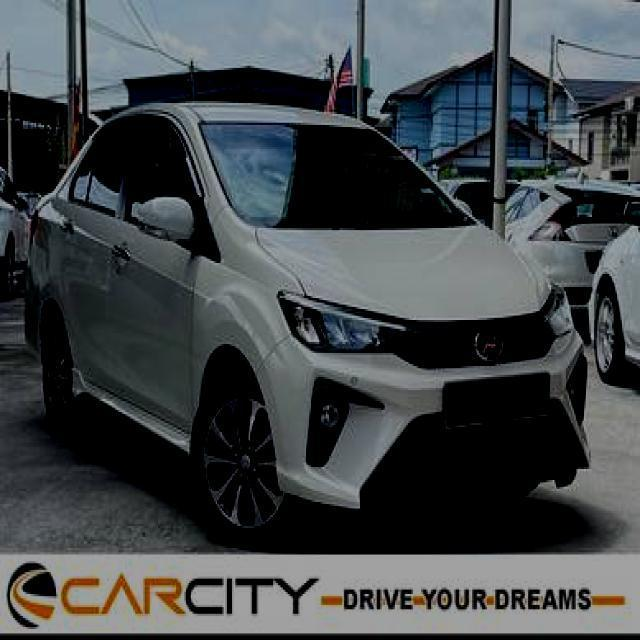PeroduaBezza: (22, 99, 592, 532)
